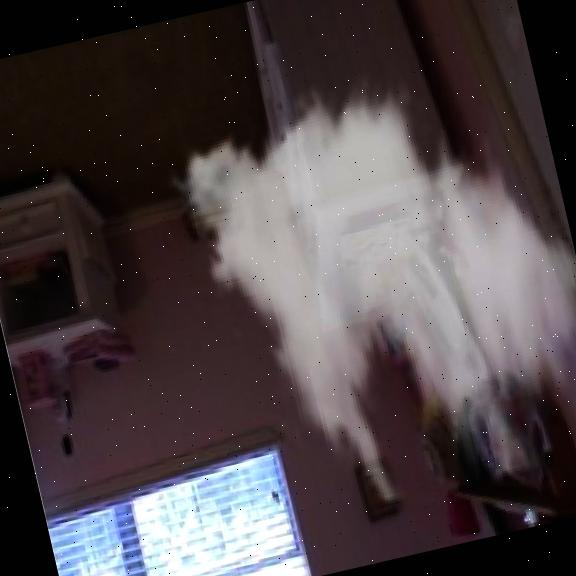smoke: (145, 35, 576, 537)
